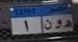1: (23, 19, 31, 32)
haa: (64, 19, 72, 30)
noon: (44, 18, 53, 32)
waw: (55, 18, 62, 31)
